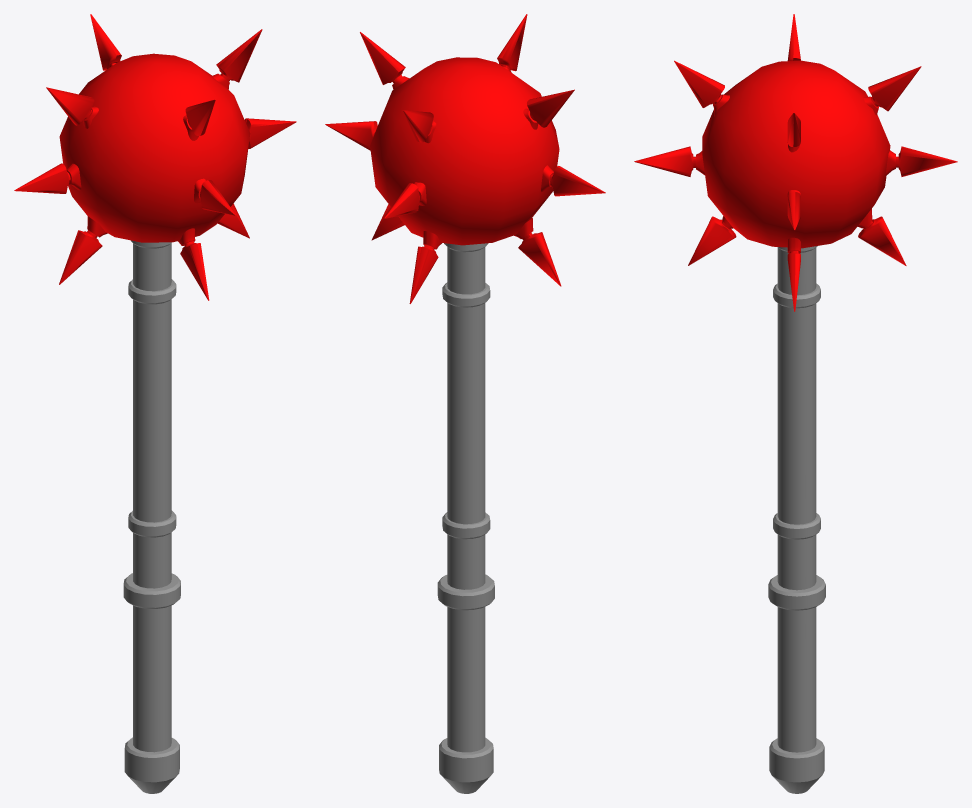
The model's file is Mace(LowerPoly).fbx.
The picture shows the model from 3 angles, left to right: view 1: azimuth 30°, elevation 25°; view 2: azimuth 150°, elevation 25°; view 3: azimuth 270°, elevation 25°; orthographic projection.
Visible parts, largest first — view 1: Ball Top, Handle; view 2: Ball Top, Handle; view 3: Ball Top, Handle.
Boxes of the visible parts, <box> form: Ball Top: <box>14,14,296,300</box>; Handle: <box>123,240,180,793</box>; Ball Top: <box>325,14,605,303</box>; Handle: <box>437,243,494,793</box>; Ball Top: <box>634,14,957,311</box>; Handle: <box>768,246,825,793</box>.
Bounding box in the file's own units: 33.9 × 84.61 × 33.9.
